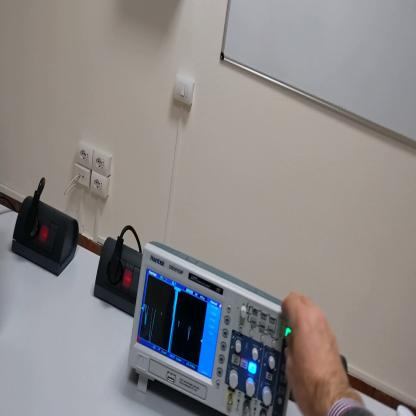hand: (280, 292, 352, 414)
oscilloscope: (128, 242, 291, 415)
socket: (10, 194, 81, 276), (97, 234, 143, 316)
